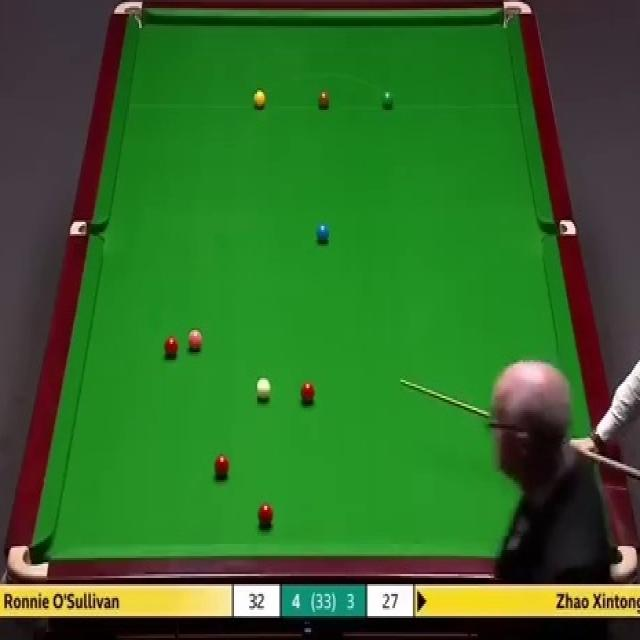pocket: (7, 544, 50, 582), (608, 543, 640, 582), (112, 0, 145, 34), (499, 0, 530, 32), (539, 218, 576, 240), (67, 220, 105, 235)
